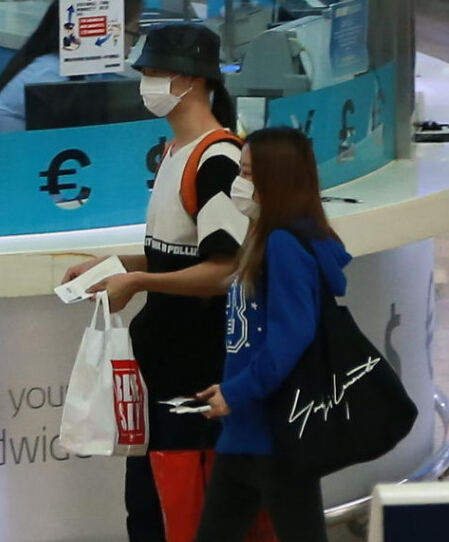face_mask: (139, 48, 180, 114), (235, 146, 271, 216)
